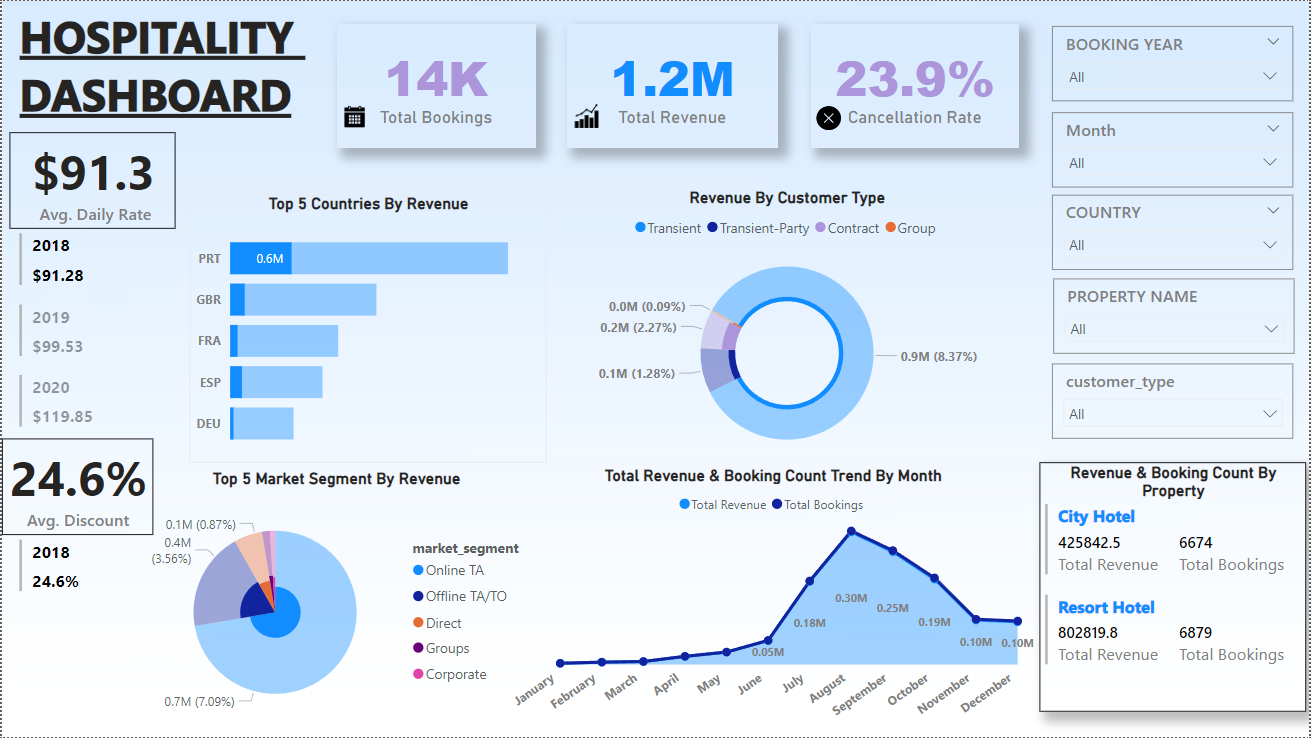

This screenshot's page, from the dashboard's own definition file:
{"tool":"powerbi","page":{"name":"Exec. Dashboard","canvas":[1280,720],"ordinal":0},"visuals":[{"type":"card","fields":{"Values":["Hotels_Booking_Data.Avg. Of ADR"]},"box":[7.3,128.4,162.6,94.2],"z":0},{"type":"multiRowCard","fields":{"Values":["Hotels_Booking_Data.Reservation_Status_Year","Hotels_Booking_Data.Avg. Of ADR"]},"box":[12.2,222.6,116.2,227.4],"z":1000},{"type":"card","fields":{"Values":["Hotels_Booking_Data.Avg. Of Discount"]},"box":[0,428,148,94.2],"z":2000},{"type":"multiRowCard","fields":{"Values":["Hotels_Booking_Data.Reservation_Status_Year","Hotels_Booking_Data.Avg. Of Discount"]},"box":[12.2,522.1,116.2,198.1],"z":3000},{"type":"card","fields":{"Values":["Hotels_Booking_Data.Total Bookings"]},"box":[327.2,22.4,194.1,121.9],"z":4000},{"type":"textbox","box":[12.2,0,315.5,128.4],"z":5000},{"type":"image","box":[327.2,98.3,34.8,31.1],"z":6000},{"type":"card","fields":{"Values":["Hotels_Booking_Data.Total Revenue"]},"box":[552.4,22.4,206.5,121.9],"z":7000},{"type":"image","box":[552.4,95.8,38.6,33.6],"z":8000},{"type":"card","fields":{"Values":["Hotels_Booking_Data.Cancellation Rate"]},"box":[791.3,22.4,204,121.9],"z":9000},{"type":"image","box":[791.3,95.8,35,39],"z":10000},{"type":"pieChart","title":"Top 5 Market Segment By Revenue","fields":{"Category":["Hotels_Booking_Data.market_segment"],"Y":["Hotels_Booking_Data.Total Revenue"]},"box":[127.8,458.3,398,261.7],"z":11000},{"type":"barChart","title":"Top 5 Countries By Revenue","fields":{"Y":["Hotels_Booking_Data.Total Revenue"],"Category":["Hotels_Booking_Data.country"]},"box":[183.3,189.5,350.3,261.8],"z":12000},{"type":"stackedAreaChart","title":"Total Revenue & Booking Count Trend By Month","fields":{"Category":["Hotels_Booking_Data.reservation_status_date.Variation.Date Hierarchy.Month"],"Y":["Hotels_Booking_Data.Total Revenue","Hotels_Booking_Data.Total Bookings"]},"box":[494.5,454.7,521,265.3],"z":13000},{"type":"donutChart","title":"Revenue By Customer Type","fields":{"Y":["Hotels_Booking_Data.Total Revenue"],"Category":["Hotels_Booking_Data.customer_type"]},"box":[521,183.3,494.5,275],"z":14000},{"type":"multiRowCard","title":"Revenue & Booking Count By Property","fields":{"Values":["Hotels_Booking_Data.hotel","Hotels_Booking_Data.Total Revenue","Hotels_Booking_Data.Total Bookings"]},"box":[1015.5,451.1,260.5,243.6],"z":15000},{"type":"slicer","fields":{"Values":["Hotels_Booking_Data.Reservation_Status_Year"]},"box":[1027.7,25,236.3,73.8],"z":16000},{"type":"slicer","fields":{"Values":["Hotels_Booking_Data.country"]},"box":[1027.7,190,236.3,73.8],"z":17000},{"type":"slicer","fields":{"Values":["Hotels_Booking_Data.hotel"]},"box":[1029,271.3,236.3,73.8],"z":18000},{"type":"slicer","fields":{"Values":["Hotels_Booking_Data.reservation_status_date.Variation.Date Hierarchy.Month"]},"box":[1027.7,108.8,236.3,73.8],"z":19000},{"type":"slicer","fields":{"Values":["Hotels_Booking_Data.customer_type"]},"box":[1027.7,355.1,236.3,73.8],"z":20000}]}

Visuals, with their boxes in screenshot pixels (x1, y1, x2, y2), scaled from the page's 1280x720 canvas onto the 1312x738 screenshot:
card - Hotels_Booking_Data.Avg. Of ADR: 7,132,174,228
multiRowCard - Hotels_Booking_Data.Reservation_Status_Year x Hotels_Booking_Data.Avg. Of ADR: 13,228,132,461
card - Hotels_Booking_Data.Avg. Of Discount: 0,439,152,535
multiRowCard - Hotels_Booking_Data.Reservation_Status_Year x Hotels_Booking_Data.Avg. Of Discount: 13,535,132,737
card - Hotels_Booking_Data.Total Bookings: 335,23,534,148
textbox: 13,0,336,132
image: 335,101,371,133
card - Hotels_Booking_Data.Total Revenue: 566,23,778,148
image: 566,98,606,133
card - Hotels_Booking_Data.Cancellation Rate: 811,23,1020,148
image: 811,98,847,138
"Top 5 Market Segment By Revenue" pieChart: 131,470,539,737
"Top 5 Countries By Revenue" barChart: 188,194,547,463
"Total Revenue & Booking Count Trend By Month" stackedAreaChart: 507,466,1041,737
"Revenue By Customer Type" donutChart: 534,188,1041,470
"Revenue & Booking Count By Property" multiRowCard: 1041,462,1308,712
slicer - Hotels_Booking_Data.Reservation_Status_Year: 1053,26,1296,101
slicer - Hotels_Booking_Data.country: 1053,195,1296,270
slicer - Hotels_Booking_Data.hotel: 1055,278,1297,354
slicer - Hotels_Booking_Data.reservation_status_date.Variation.Date Hierarchy.Month: 1053,112,1296,187
slicer - Hotels_Booking_Data.customer_type: 1053,364,1296,440
